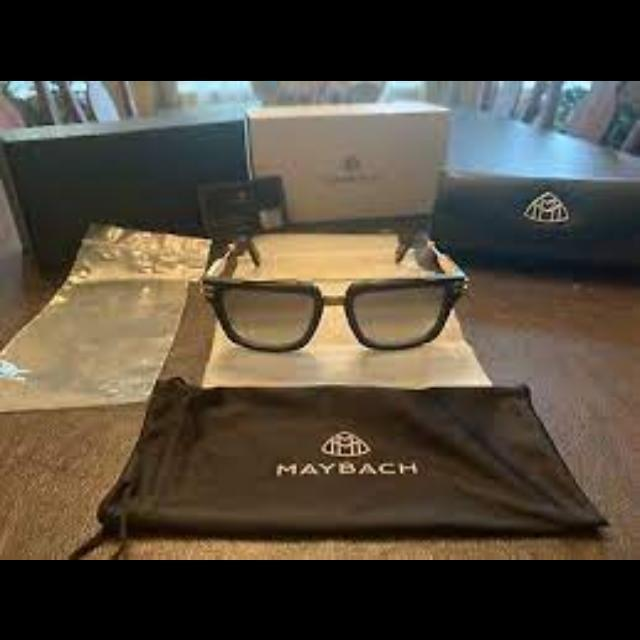sunglasses: (200, 225, 468, 352)
